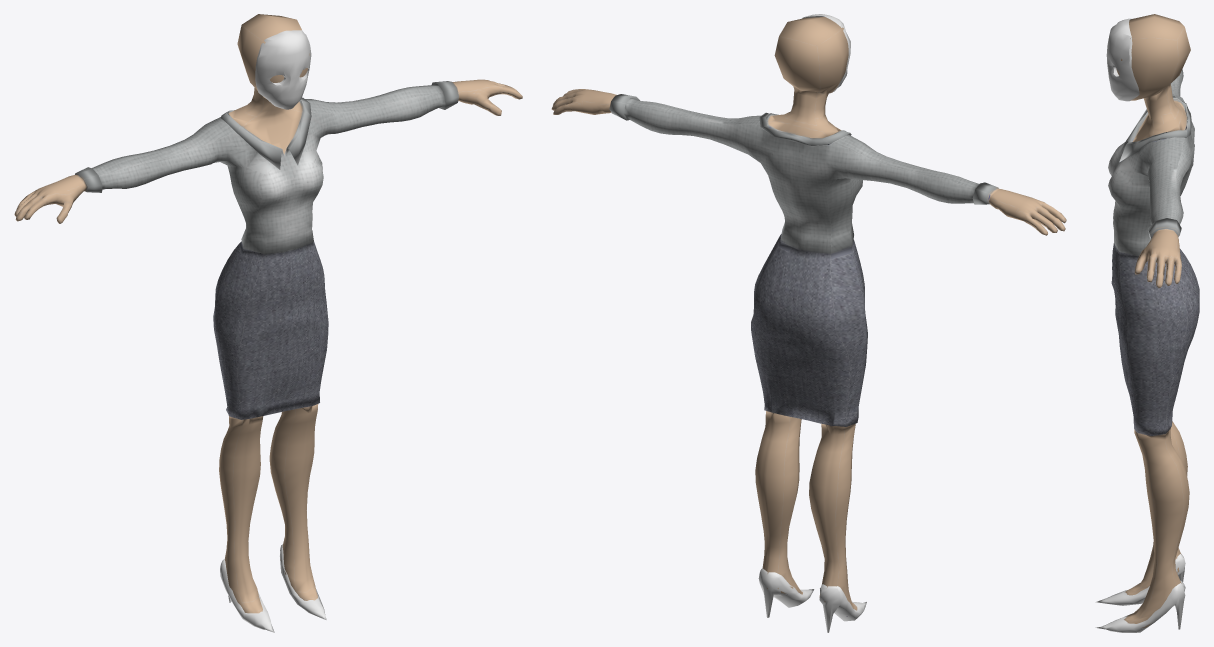
File: WomanFNLbaldTEXTEST.fbx
3 renders of one model, left to right at view 1: azimuth 30°, elevation 25°; view 2: azimuth 150°, elevation 25°; view 3: azimuth 270°, elevation 25°, orthographic.
Parts seen in each view (by area): view 1: Cube.001, Plane, Cube.002; view 2: Cube.001, Cube.002; view 3: Cube.001, Cube.002, Plane.
Part boxes in pixels (x1,y1,x2,y2): Cube.001: (14, 14, 522, 613); Plane: (255, 30, 311, 109); Cube.002: (220, 544, 326, 632); Cube.001: (551, 17, 1066, 616); Cube.002: (758, 568, 866, 632); Cube.001: (1108, 14, 1199, 628); Cube.002: (1095, 553, 1185, 632); Plane: (1106, 18, 1139, 101).
Bounding box in the file's own units: 557 × 624 × 98.51.
